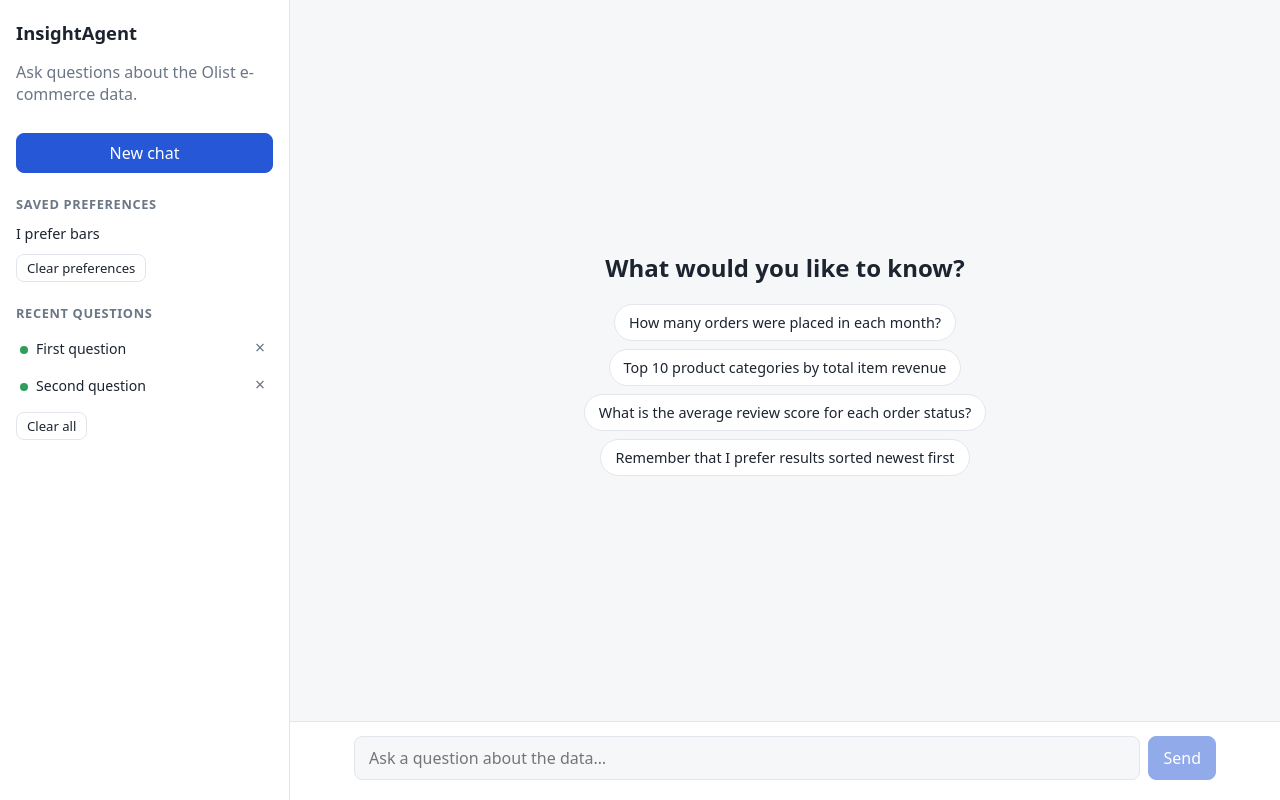
Test: clears the whole recent list
Click the button "Clear all" at coordinates (52, 426), box top-left (16, 412), bottom-right (87, 440)
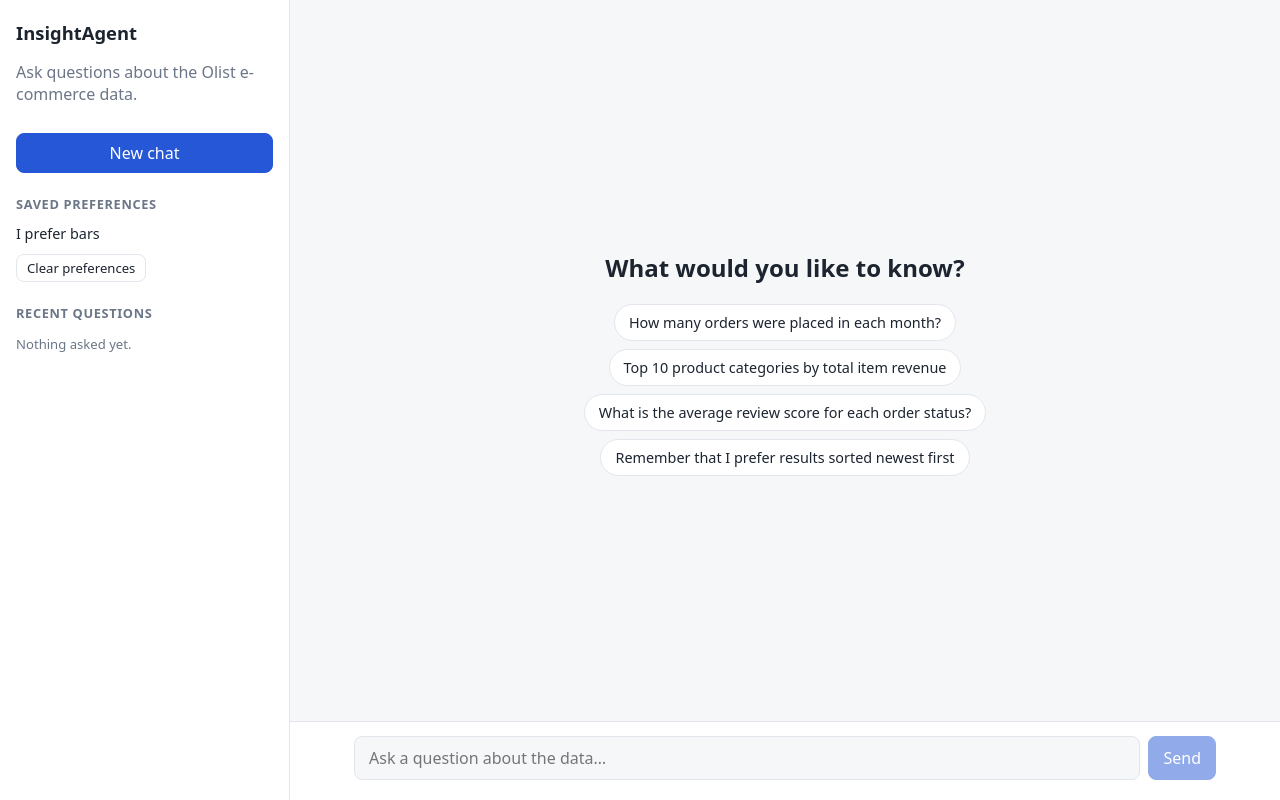
Result: the button "First question" is gone
Result: the text "Nothing asked yet." is shown at top-left (16, 335), bottom-right (132, 353)
